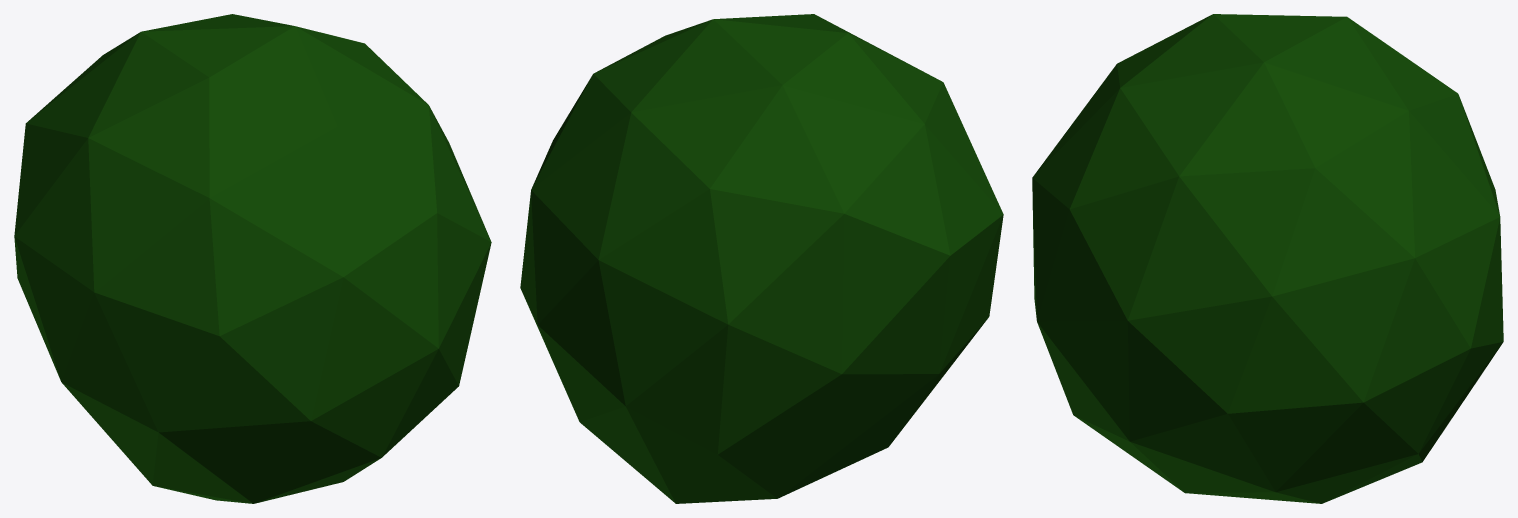
The picture shows the model from 3 angles, left to right: view 1: azimuth 30°, elevation 25°; view 2: azimuth 150°, elevation 25°; view 3: azimuth 270°, elevation 25°; orthographic projection.
Parts seen in each view (by area): view 1: Icosphere.017; view 2: Icosphere.017; view 3: Icosphere.017.
Boxes of the visible parts, box(x1,y1,x2,y2) form: Icosphere.017: box(14, 14, 491, 503); Icosphere.017: box(520, 14, 1003, 503); Icosphere.017: box(1032, 14, 1503, 503).
Size of the model in its own units: 1.64 by 1.73 by 1.61.
